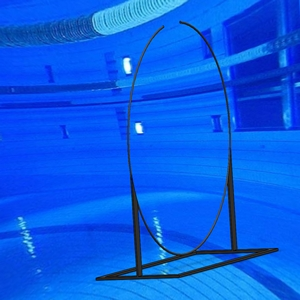circle: (94, 20, 279, 283)
